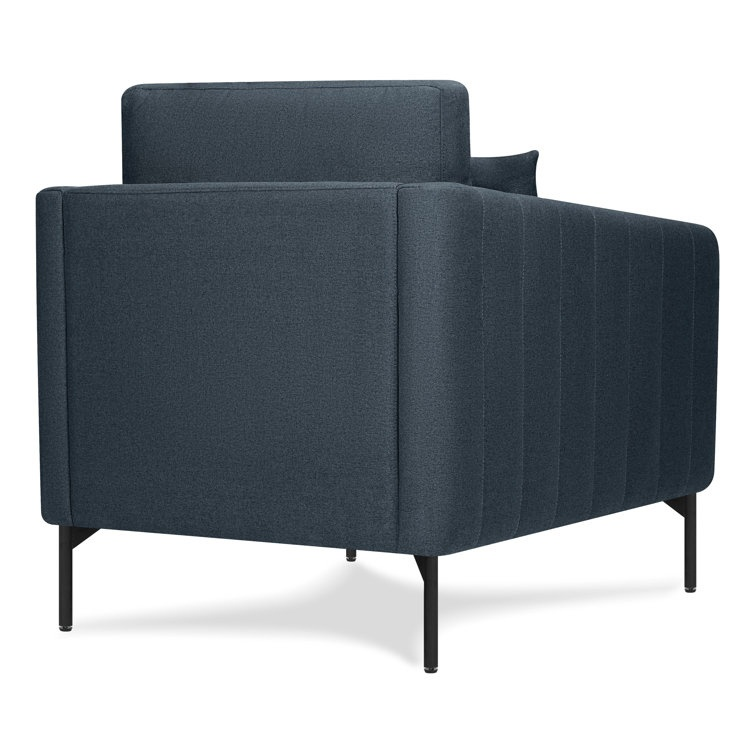obstacle: (37, 81, 717, 671)
